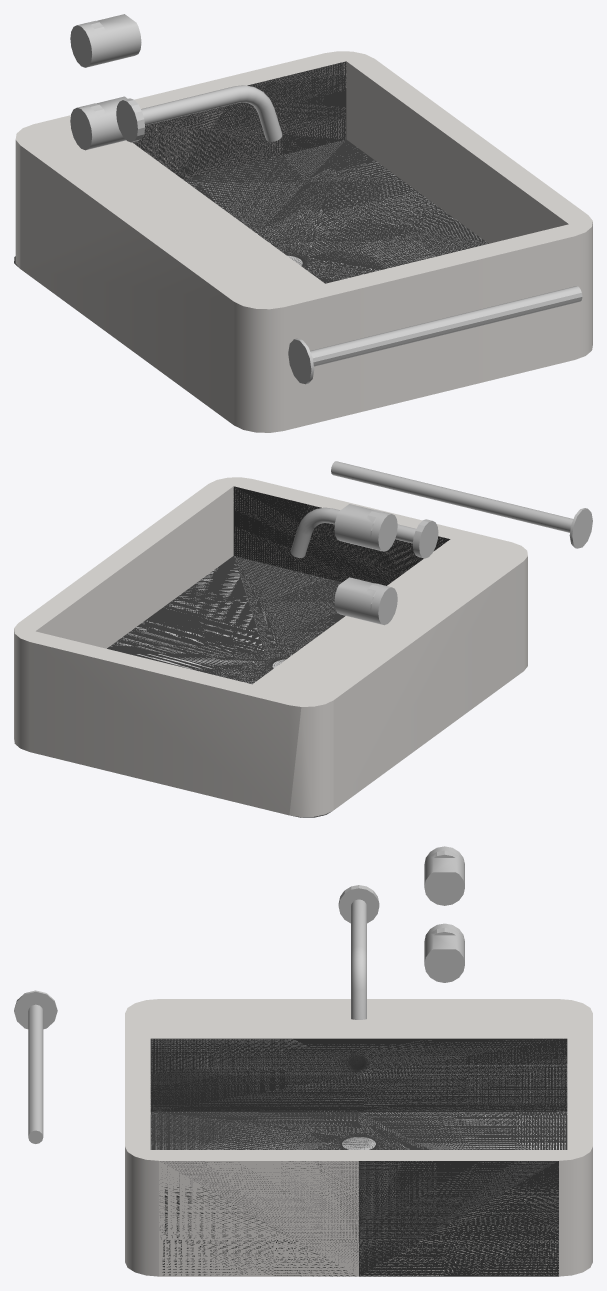
The model's file is sink2.dae.
3 views of the same model, one above another, from view 1: azimuth 30°, elevation 25°; view 2: azimuth 150°, elevation 25°; view 3: azimuth 270°, elevation 25° (orthographic). The views are drawn at different scales.
Parts seen in each view (by area): view 1: Component_10 (×13); view 2: Component_10 (×13); view 3: Component_10 (×13).
Boxes of the visible parts, box(x1,y1,x2,y2) form: Component_10 (×13): box(15, 14, 592, 432); Component_10 (×13): box(14, 461, 592, 817); Component_10 (×13): box(14, 852, 592, 1276).
Size of the model in its own units: 17.72 by 26.79 by 13.7.
